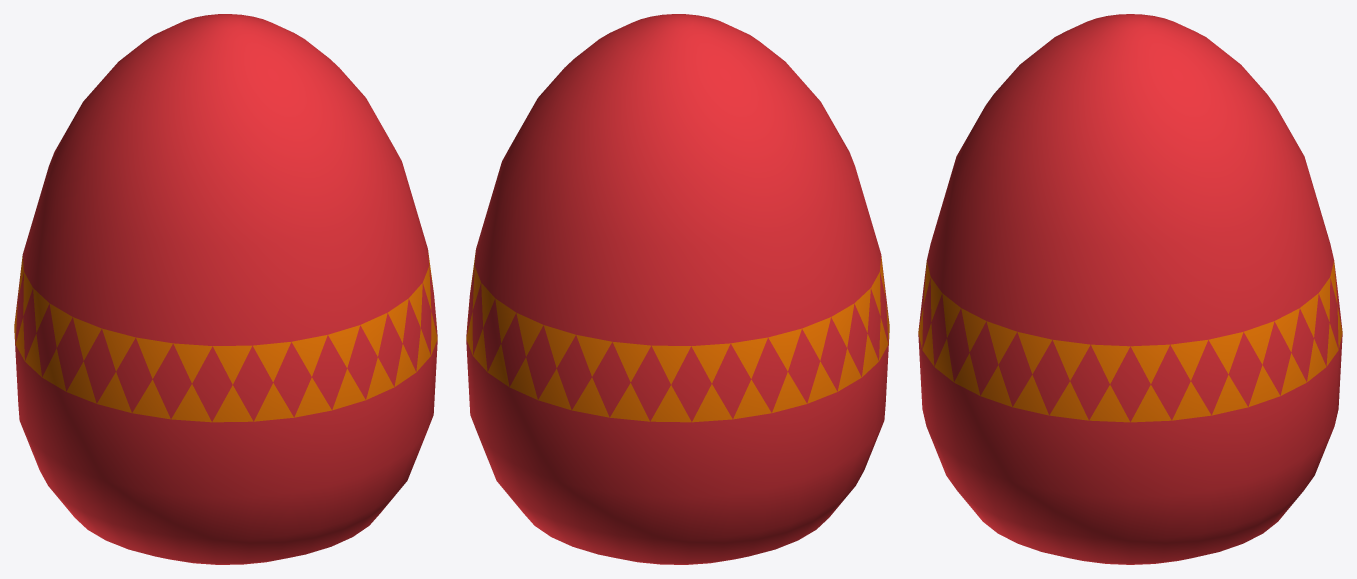
The model's file is Fire_03.fbx.
3 renders of one model, left to right at view 1: azimuth 30°, elevation 25°; view 2: azimuth 150°, elevation 25°; view 3: azimuth 270°, elevation 25°, orthographic.
Parts seen in each view (by area): view 1: Fire_03; view 2: Fire_03; view 3: Fire_03.
Boxes of the visible parts, x1,y1,x2,y2 form: Fire_03: [14, 14, 437, 564]; Fire_03: [466, 14, 889, 564]; Fire_03: [918, 14, 1342, 564].
Bounding box in the file's own units: 315 × 417 × 315.
